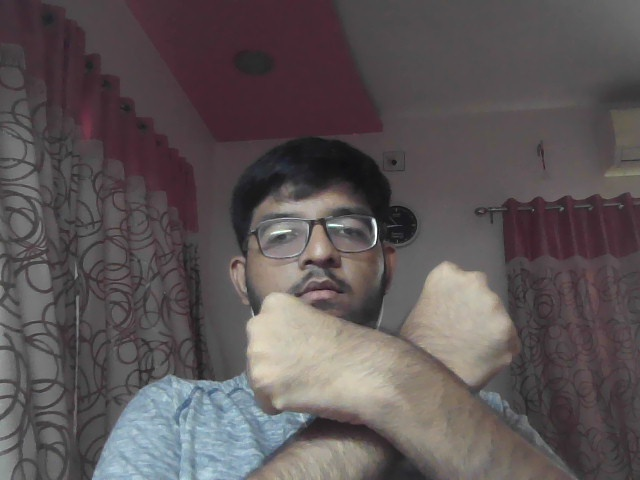પ્રેમ: (228, 259, 574, 480)
